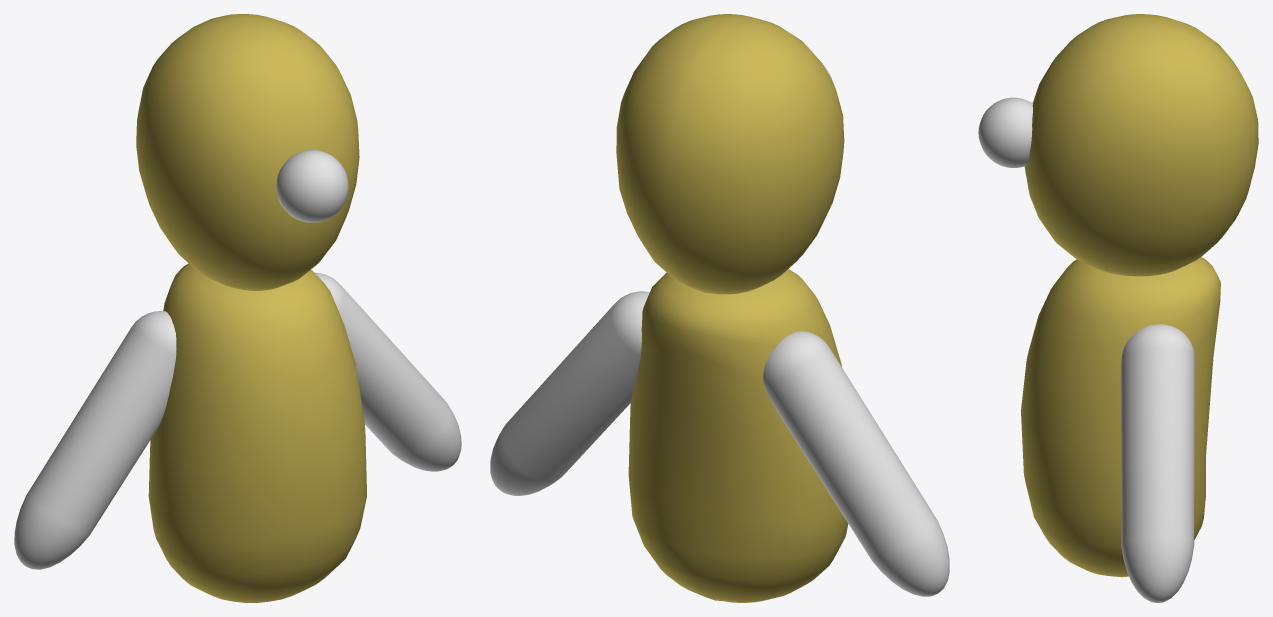
Rendered from SM_Player4WHITEfbx.fbx.
3 views of the same model, side by side, from view 1: azimuth 30°, elevation 25°; view 2: azimuth 150°, elevation 25°; view 3: azimuth 270°, elevation 25° (orthographic). The views are drawn at different scales.
Parts seen in each view (by area): view 1: SK_CharacterBase.001, Naso.001; view 2: SK_CharacterBase.001; view 3: SK_CharacterBase.001, Naso.001.
Boxes of the visible parts, bbox=[...] form: SK_CharacterBase.001: bbox=[14, 14, 461, 602]; Naso.001: bbox=[276, 150, 348, 222]; SK_CharacterBase.001: bbox=[490, 14, 949, 602]; SK_CharacterBase.001: bbox=[1021, 14, 1258, 602]; Naso.001: bbox=[978, 97, 1032, 167].
Bounding box in the file's own units: 115 × 139 × 65.52.
